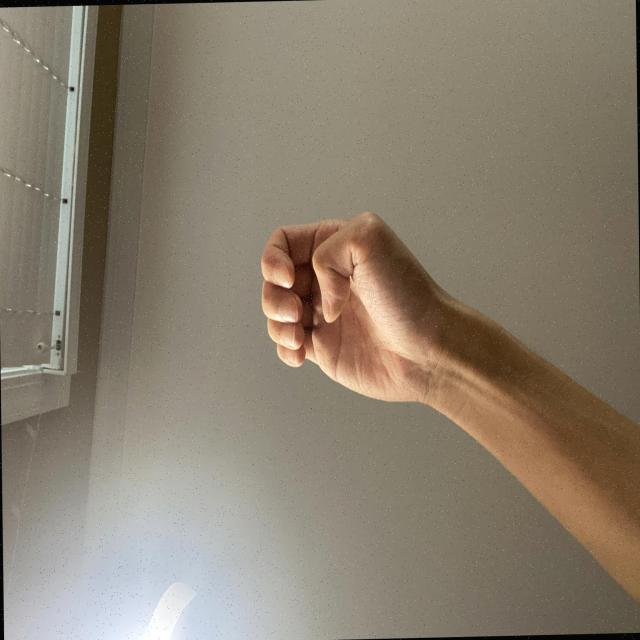E: (169, 342, 328, 616)
